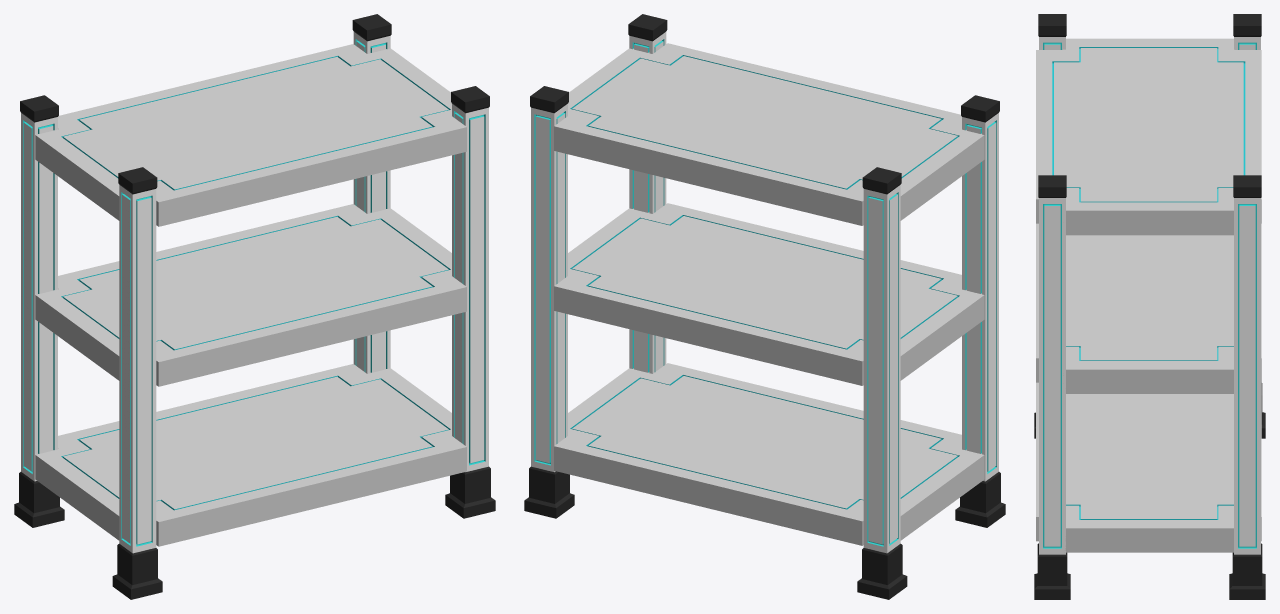
File: shelf_short.fbx
3 renders of one model, left to right at view 1: azimuth 30°, elevation 25°; view 2: azimuth 150°, elevation 25°; view 3: azimuth 270°, elevation 25°, orthographic.
Visible parts, largest first — view 1: Cube.003, Cube.002; view 2: Cube.003, Cube.002; view 3: Cube.003, Cube.002.
Part boxes in pixels (box(x1,y1,x2,y2)): Cube.003: box(35, 44, 466, 546); Cube.002: box(14, 14, 495, 599); Cube.003: box(554, 43, 984, 545); Cube.002: box(524, 14, 1005, 599); Cube.003: box(1036, 38, 1261, 552); Cube.002: box(1034, 14, 1265, 599).
Size of the model in its own units: 310 by 337 by 172.
